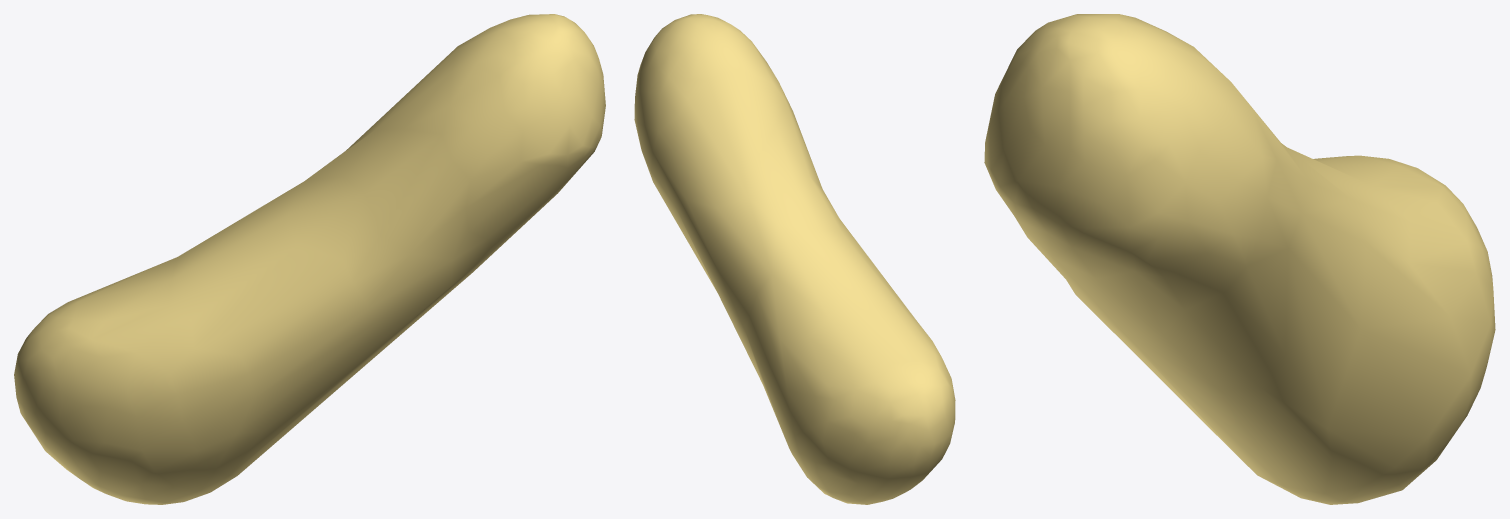
Rendered from fma73464.glb.
3 views of the same model, side by side, from view 1: azimuth 30°, elevation 25°; view 2: azimuth 150°, elevation 25°; view 3: azimuth 270°, elevation 25° (orthographic). The views are drawn at different scales.
Visible parts, largest first — view 1: FMA73464; view 2: FMA73464; view 3: FMA73464.
Boxes of the visible parts, left/top/right/bottom form: FMA73464: left=14, top=14, right=605, bottom=504; FMA73464: left=634, top=14, right=955, bottom=504; FMA73464: left=984, top=14, right=1495, bottom=504.
Size of the model in its own units: 0.0112 by 0.0105 by 0.00726.
